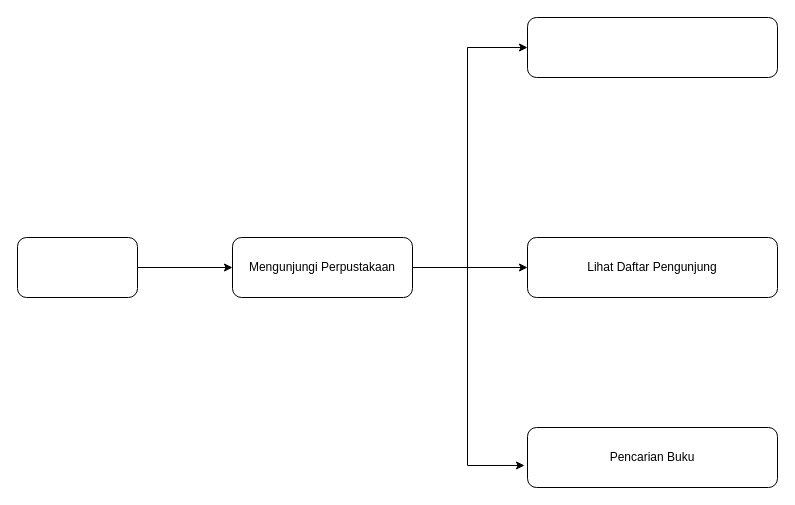
This 795x505 diagram has some shape labels left out. The shapes that lost their labels are listed below. From the top down, each one's box as (x1, y1, x2, y2) in pixels, then its label:
(526, 16, 778, 78): Isi Form Pengunjung
(16, 236, 138, 298): User
